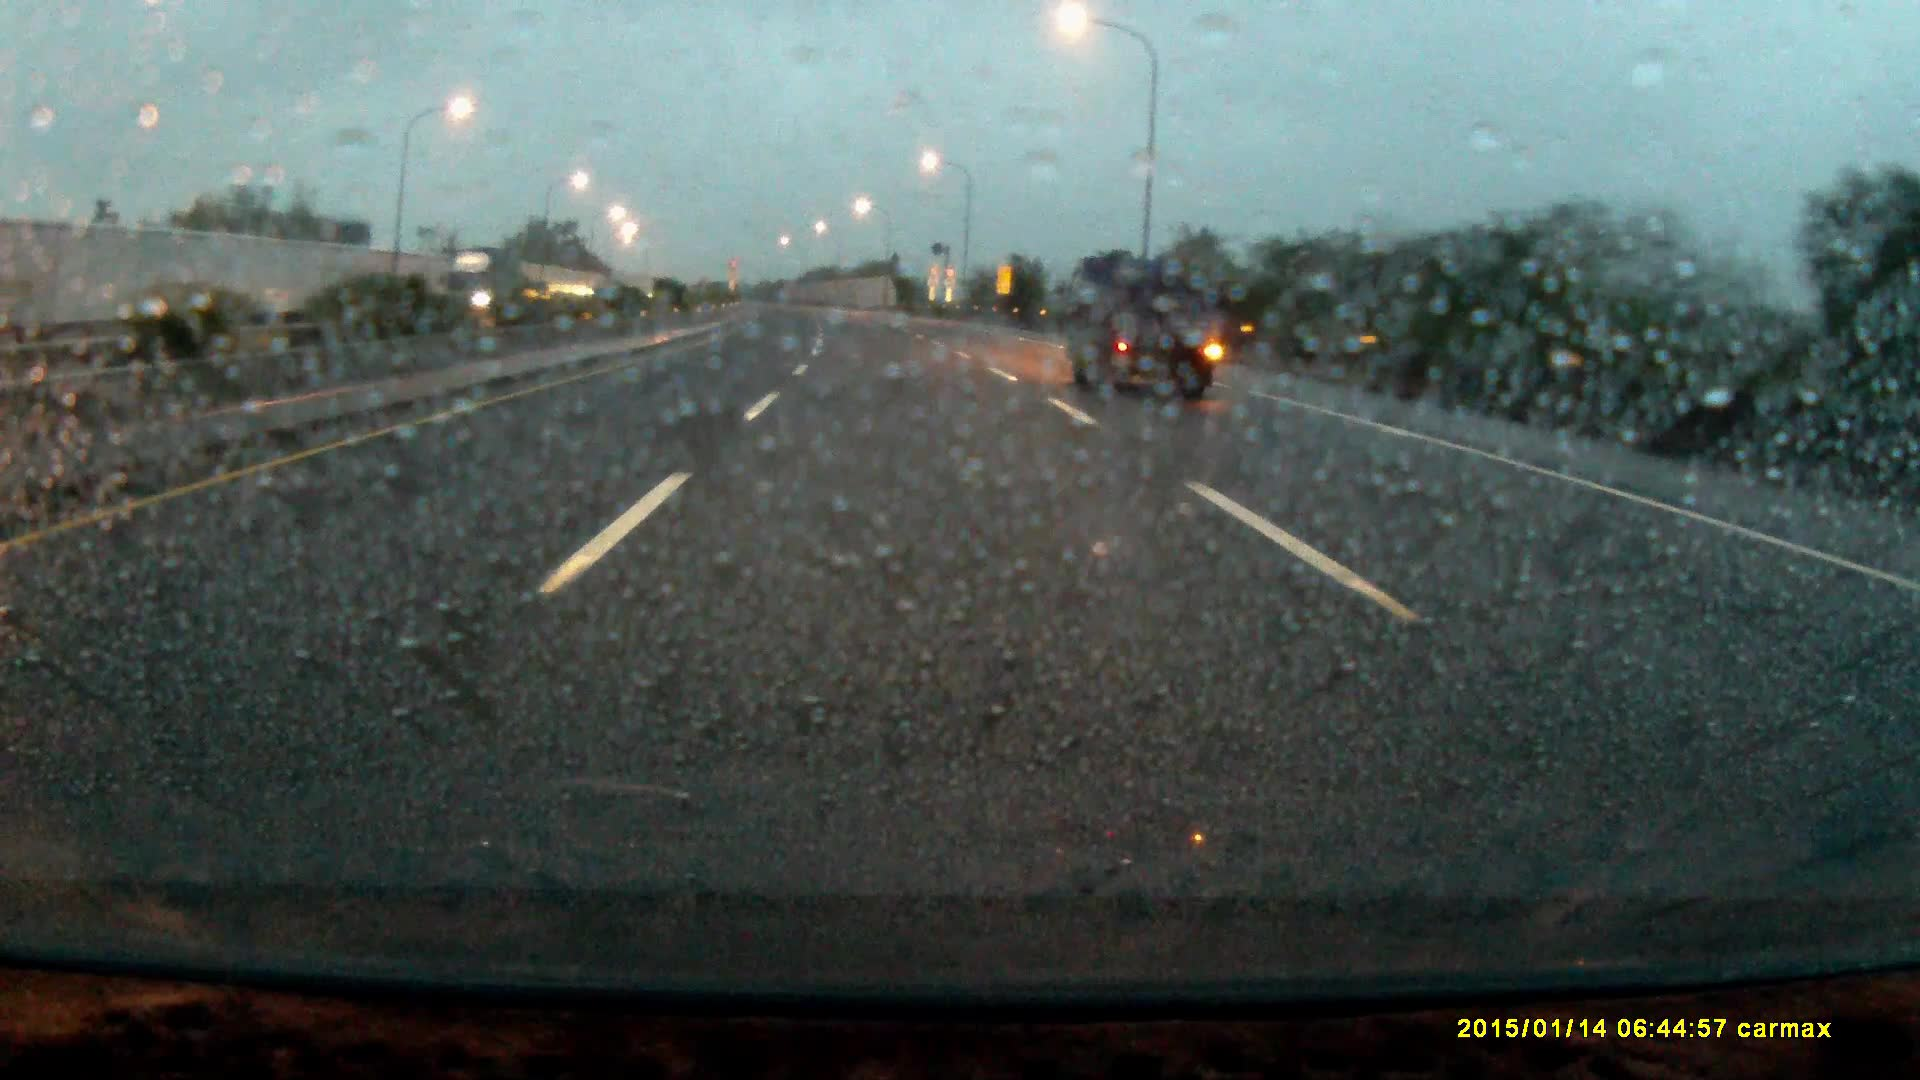vehicle: (1064, 251, 1216, 402), (440, 245, 525, 328)
